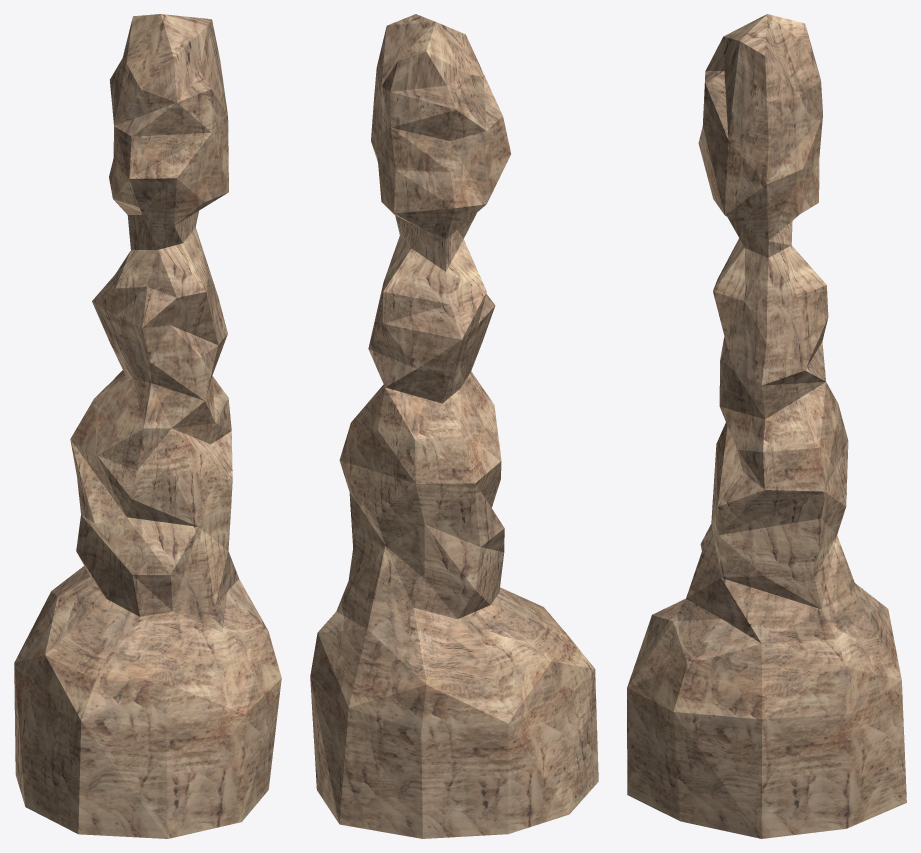
The model's file is rock_tatt_spire_lumpy_a1_l0.fbx.
The picture shows the model from 3 angles, left to right: view 1: azimuth 30°, elevation 25°; view 2: azimuth 150°, elevation 25°; view 3: azimuth 270°, elevation 25°; orthographic projection. The views are drawn at different scales.
Parts seen in each view (by area): view 1: mesh_node; view 2: mesh_node; view 3: mesh_node.
Boxes of the visible parts, x1=… form: mesh_node: x1=14, y1=14, x2=281, y2=838; mesh_node: x1=310, y1=14, x2=598, y2=838; mesh_node: x1=627, y1=14, x2=906, y2=838.
Bounding box in the file's own units: 25.71 × 77.89 × 25.5.
